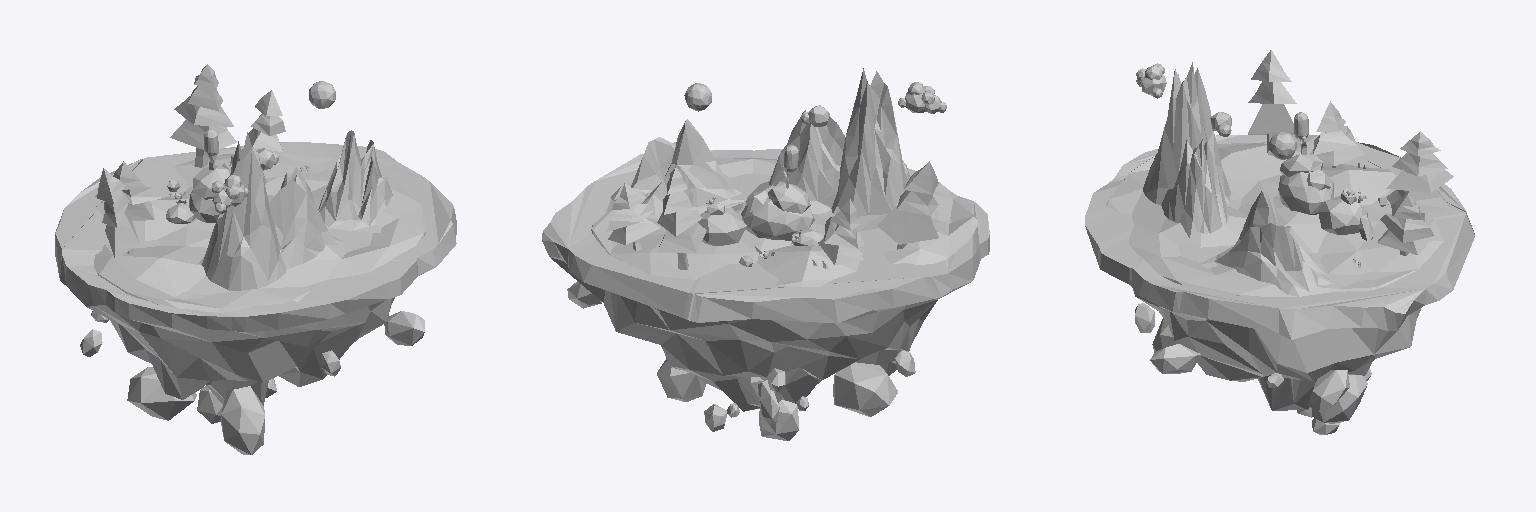
Rendered from island.obj.
3 renders of one model, left to right at view 1: azimuth 30°, elevation 25°; view 2: azimuth 150°, elevation 25°; view 3: azimuth 270°, elevation 25°, orthographic.
Parts seen in each view (by area): view 1: clloud; view 2: clloud; view 3: clloud.
Part boxes in pixels (x1,y1,x2,y2): clloud: (55, 64, 456, 454); clloud: (542, 68, 989, 440); clloud: (1085, 50, 1474, 434).
Size of the model in its own units: 307 by 265 by 278.